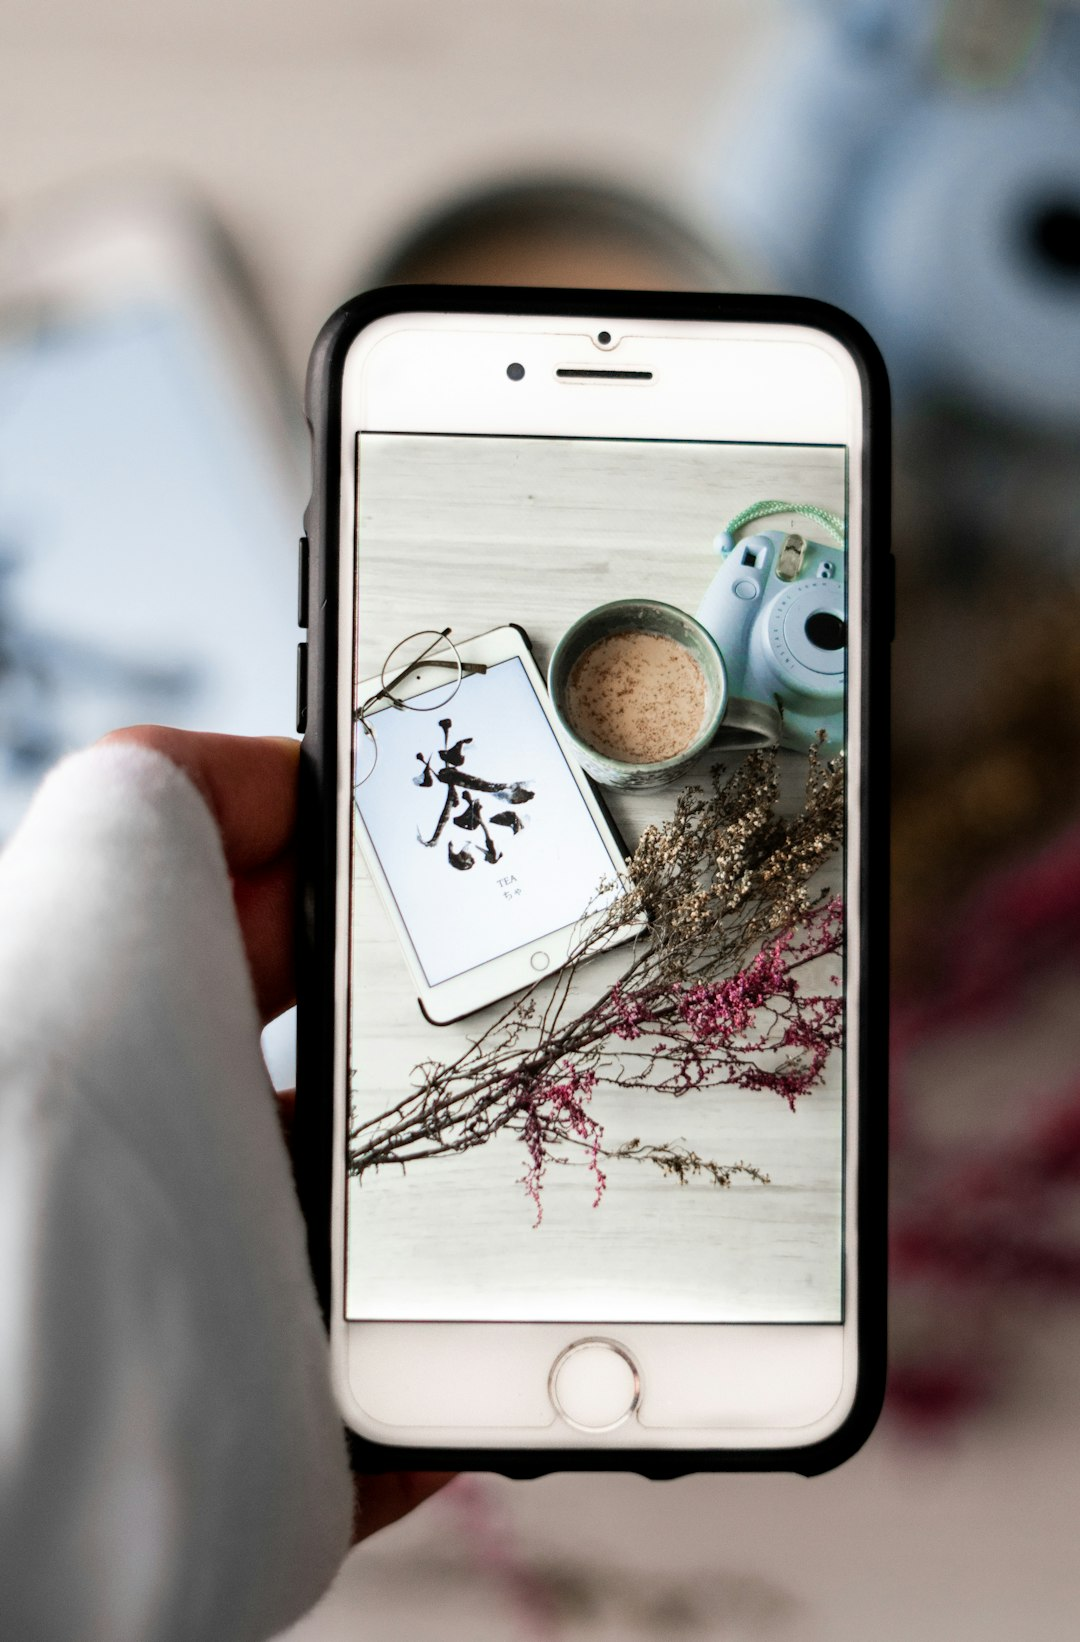phone: (297, 278, 891, 1491)
